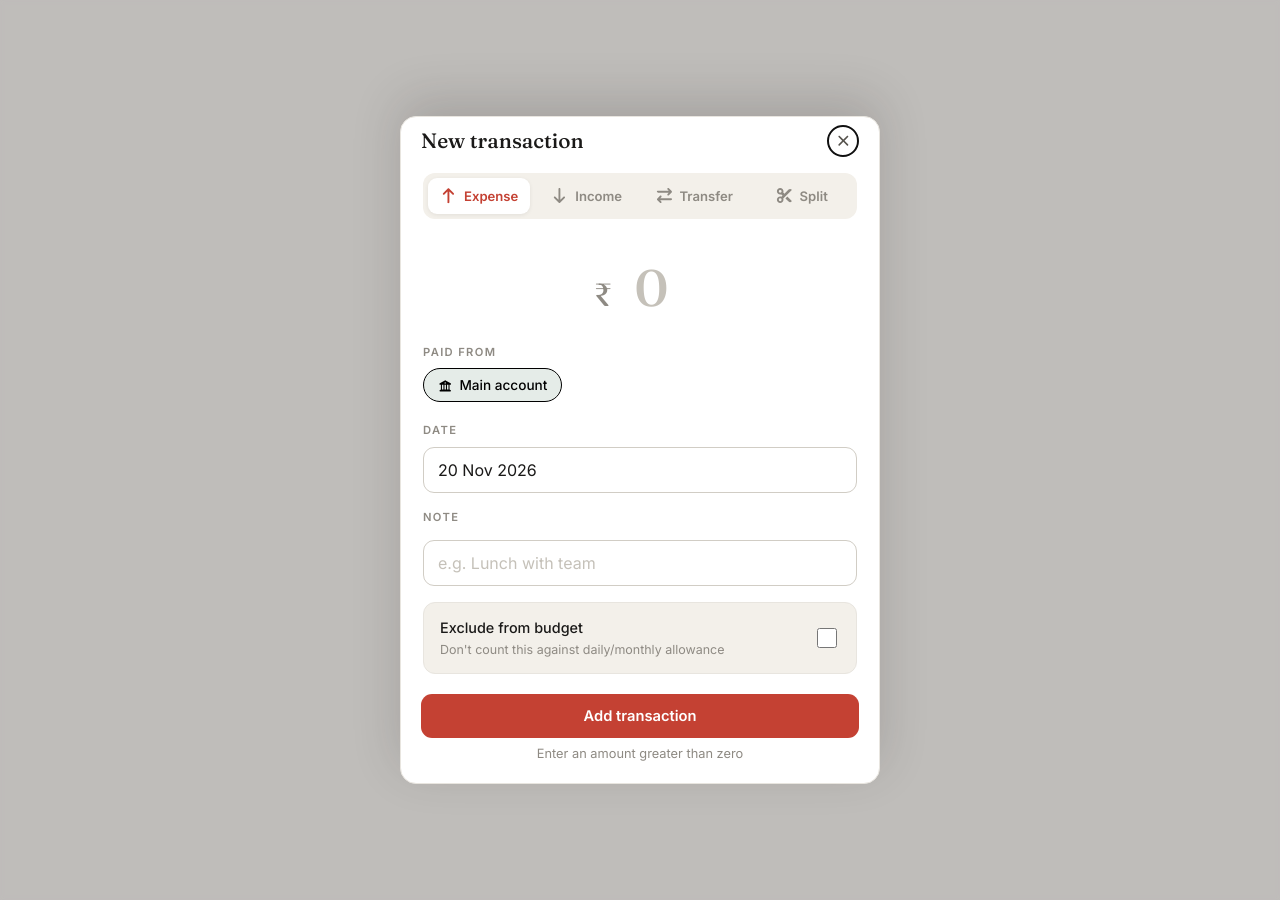
Test: AddTransactionSheet › closes after a successful save and announces the result
Type "25" into the field named "Amount" at (651, 287), box [616,254,686,320]
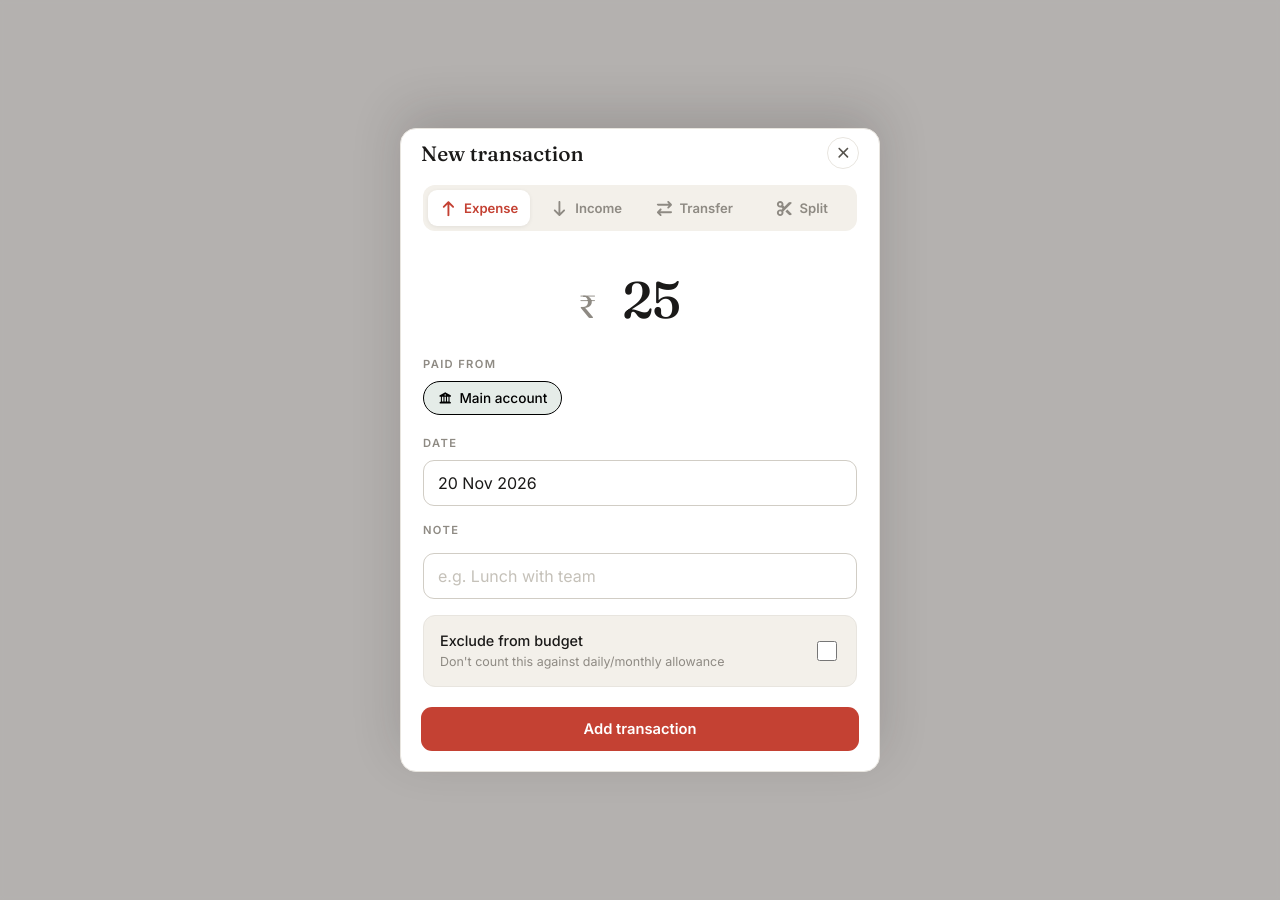
Click the button "Add transaction" at (640, 729), box [421,707,859,751]
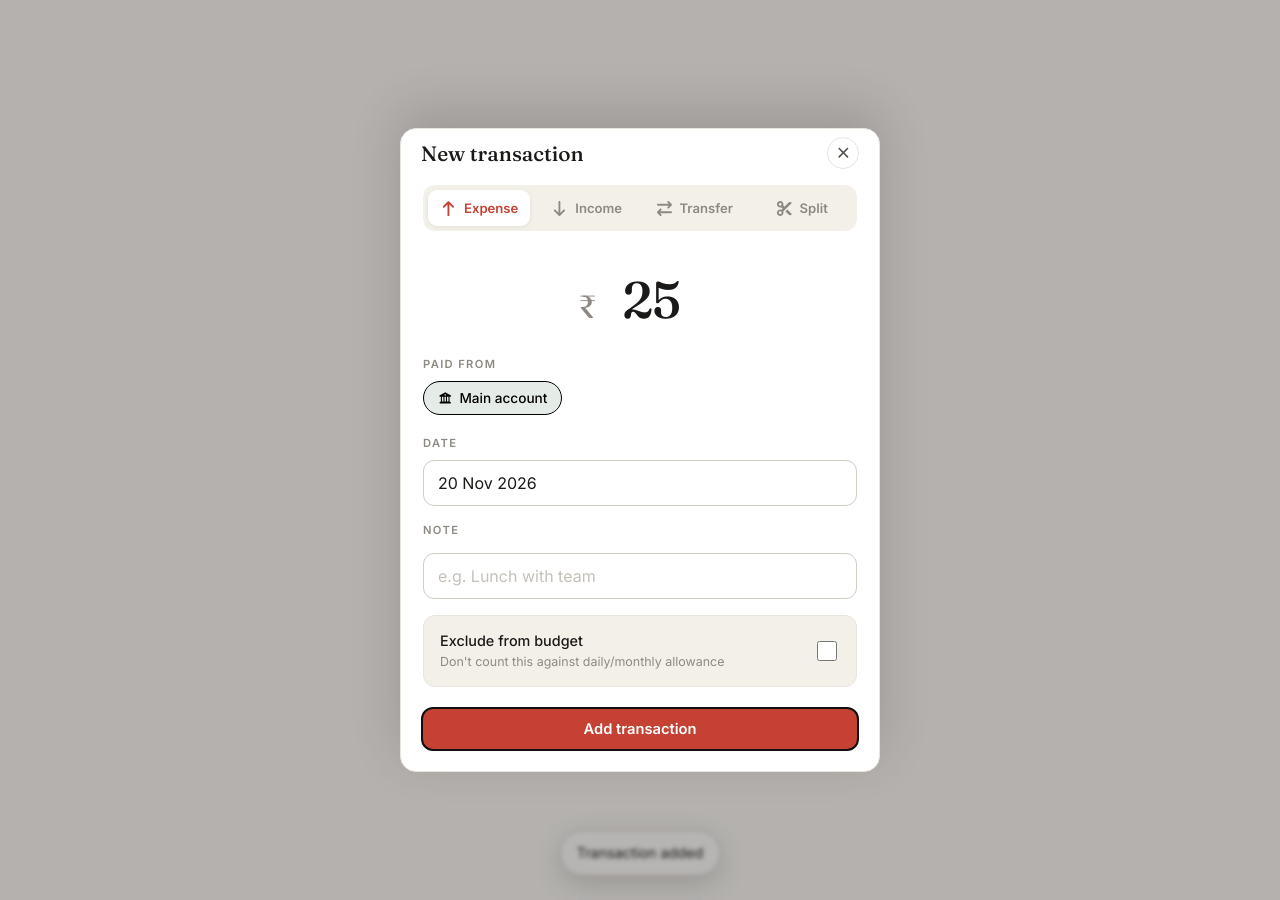
Check: the message reads "Transaction added", box [577,844,703,861]
